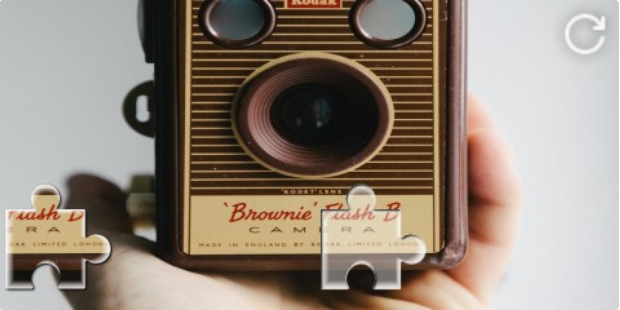target: (321, 185, 425, 290)
